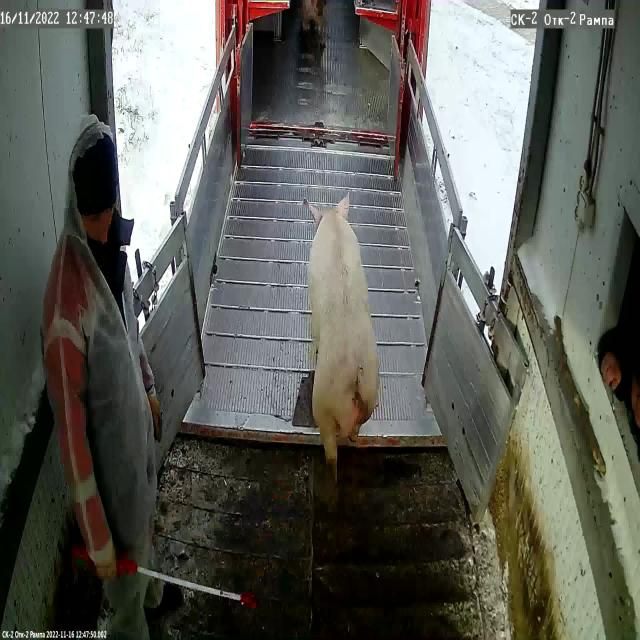pig: (304, 195, 380, 464)
